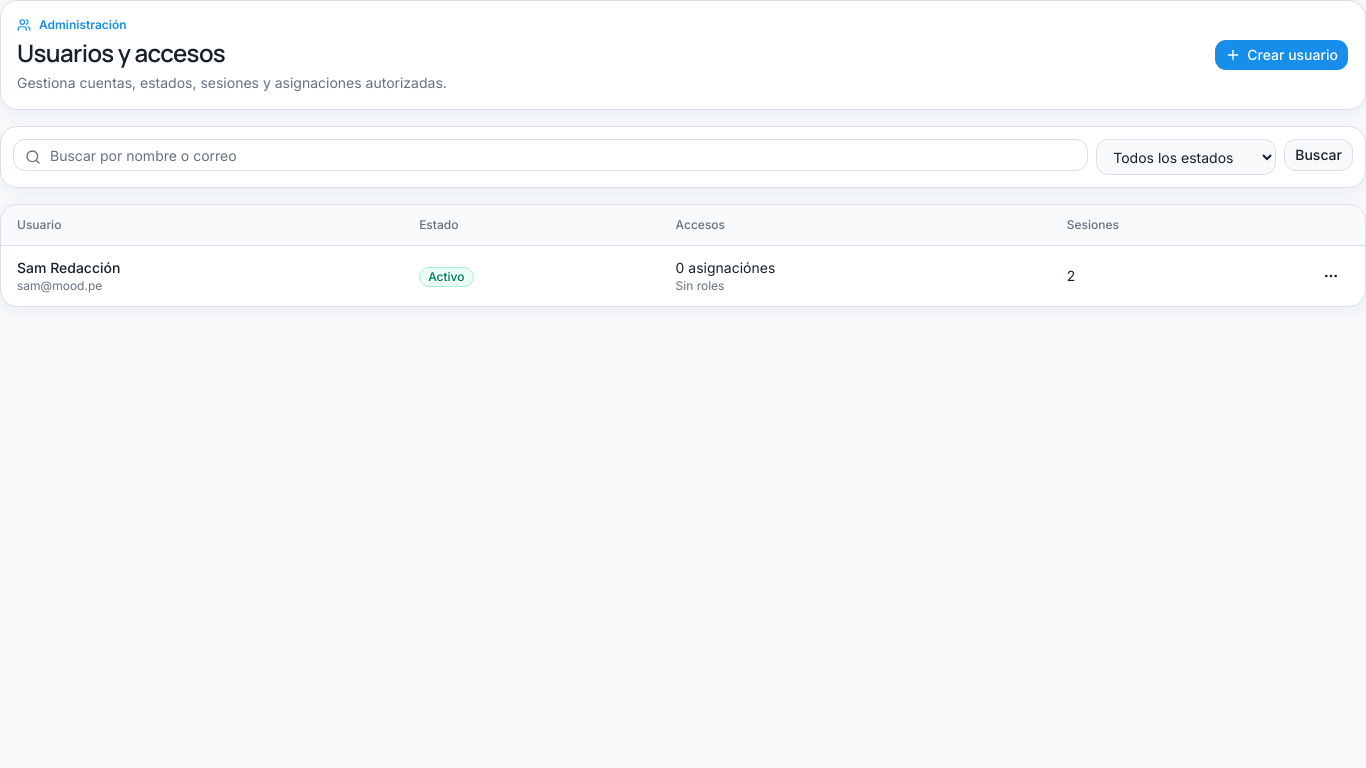
AdminUsersWorkspace › habilita la asignación solo con ambos permisos organizacionales
Click the button named "Gestionar a Sam Redacción".
click(1331, 276)  # box left=1317, top=262, right=1345, bottom=290
(page scrolled)
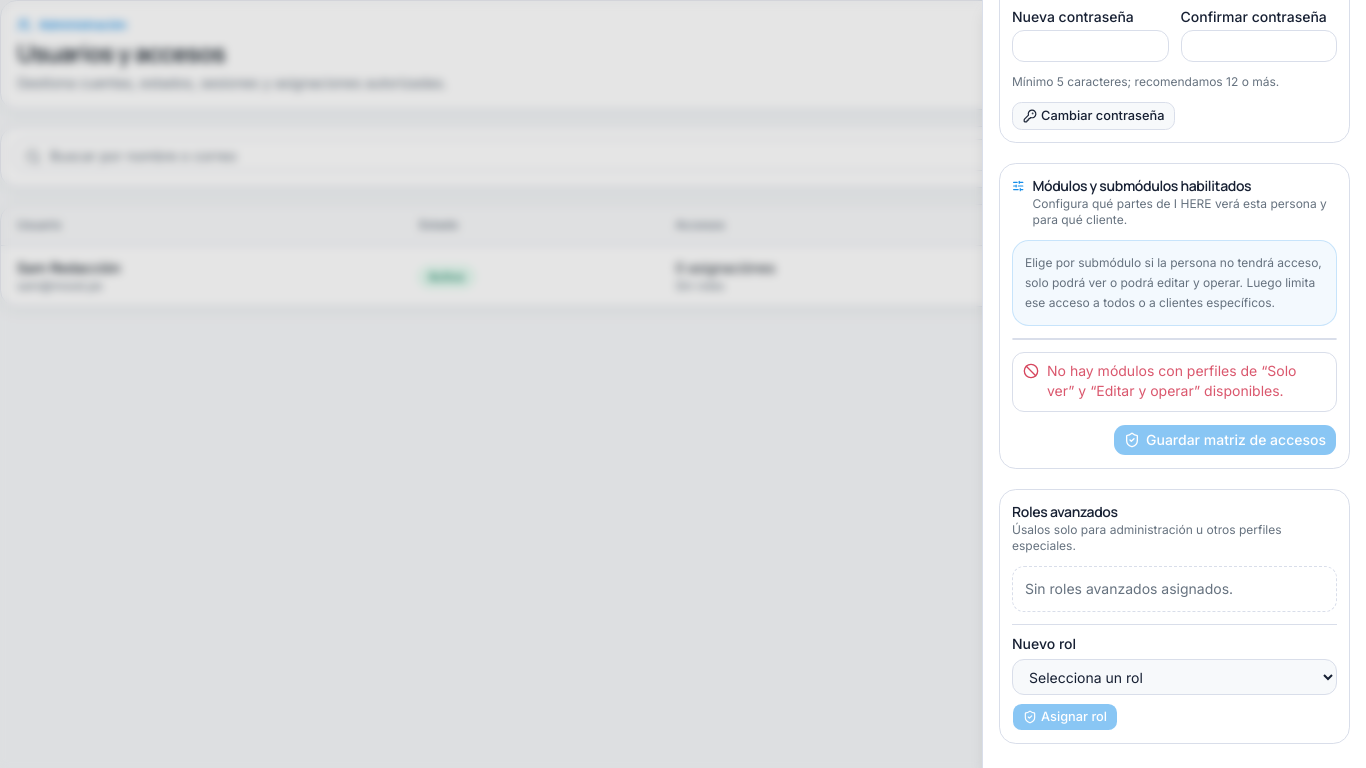
Expected: the button "Asignar rol" is shown, left=1012, top=703, right=1118, bottom=731
